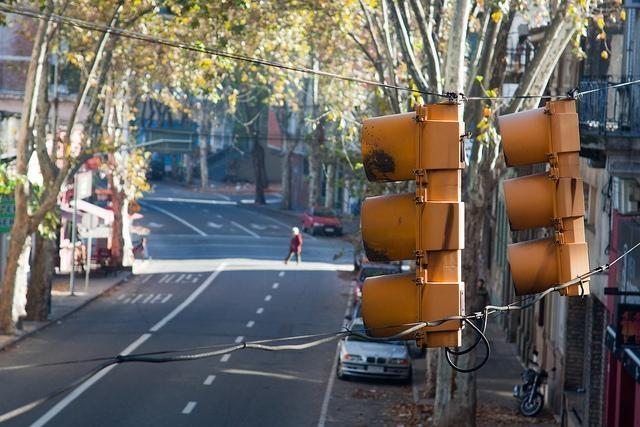car: (338, 319, 417, 381), (356, 265, 399, 302), (302, 206, 344, 236), (354, 239, 368, 272)
motorcycle: (515, 352, 558, 414)
